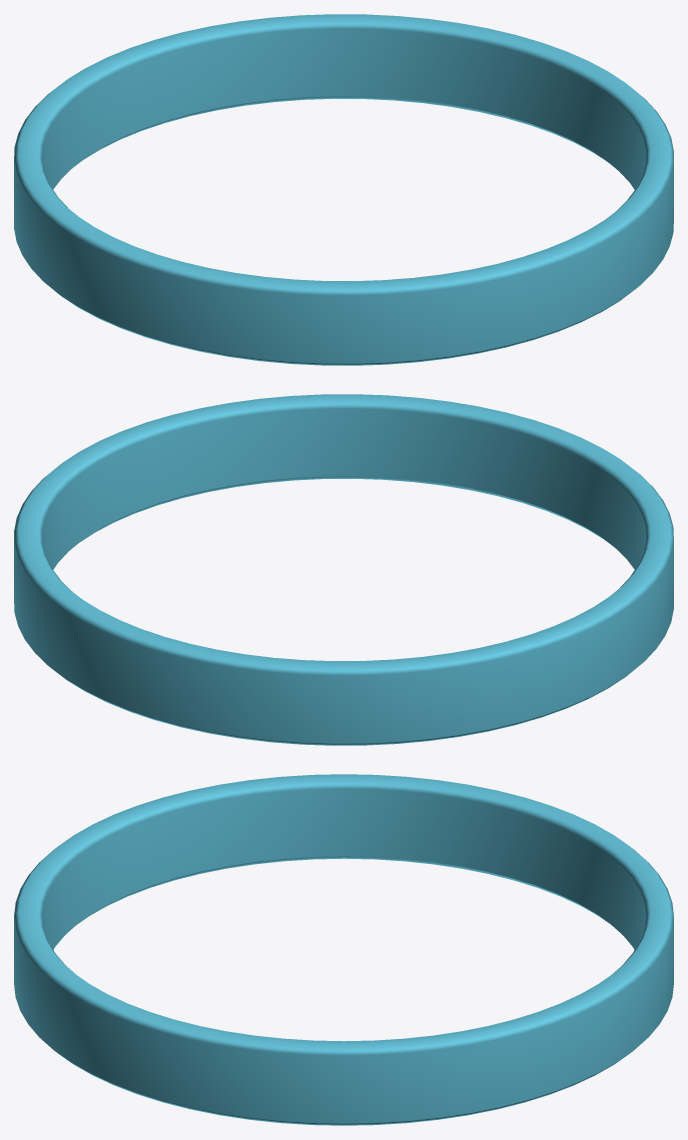
3 renders of one model, top to bottom at view 1: azimuth 30°, elevation 25°; view 2: azimuth 150°, elevation 25°; view 3: azimuth 270°, elevation 25°, orthographic.
Visible parts, largest first — view 1: seal_body; view 2: seal_body; view 3: seal_body.
Boxes of the visible parts, <box> form: seal_body: <box>14,14,673,365</box>; seal_body: <box>14,394,673,745</box>; seal_body: <box>14,774,673,1125</box>.
Bounding box in the file's own units: 0.0933 × 0.012 × 0.0933.
